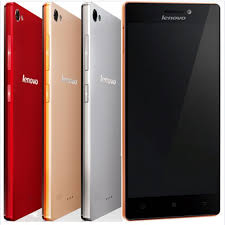lenovo: (116, 1, 222, 223)
